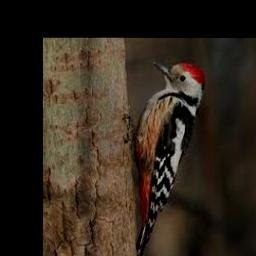Woodpecker: (123, 62, 205, 256)
